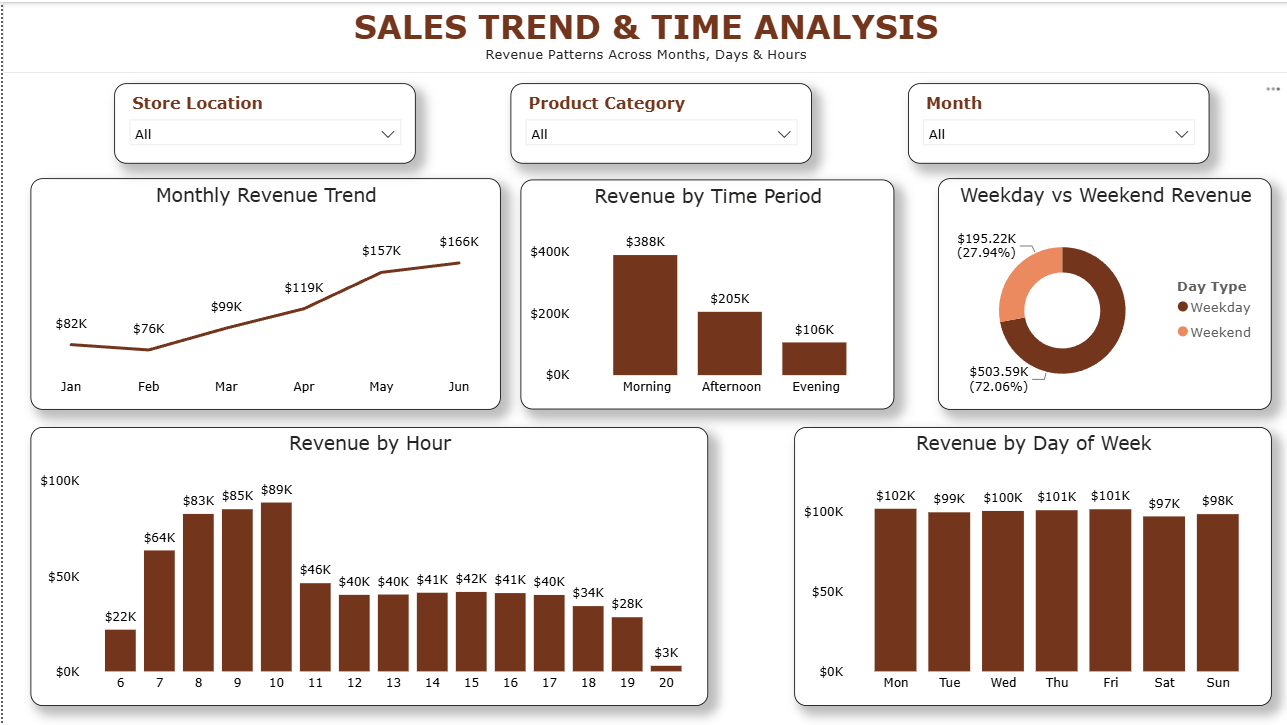

This screenshot's page, from the dashboard's own definition file:
{"tool":"powerbi","page":{"name":"Time Analysis","canvas":[1280,720],"ordinal":3},"visuals":[{"type":"lineChart","title":"Monthly Revenue Trend","fields":{"Category":["DateTable.Month Short"],"Y":["Measures (3).Total Revenue"]},"box":[27.4,175.4,467.7,230.1],"z":0},{"type":"clusteredColumnChart","title":"Revenue by Hour","fields":{"Category":["Coffee_Shop_Sales.Transaction Hour"],"Y":["Measures (3).Total Revenue"]},"box":[27.4,422.9,674.2,277.4],"z":1000},{"type":"clusteredColumnChart","title":"Revenue by Day of Week","fields":{"Category":["DateTable.Day Name"],"Y":["Measures (3).Total Revenue"]},"box":[787.4,422.9,475.2,277.4],"z":2000},{"type":"donutChart","title":"Weekday vs Weekend Revenue","fields":{"Category":["DateTable.Day Type"],"Y":["Measures (3).Total Revenue"]},"box":[930.5,175.4,332.1,230.1],"z":3000},{"type":"clusteredColumnChart","title":"Revenue by Time Period","fields":{"Category":["Coffee_Shop_Sales.Time Period"],"Y":["Measures (3).Total Revenue"]},"box":[515,176.6,371.9,228.9],"z":4000},{"type":"textbox","box":[0,0,1280,70.9],"z":5000},{"type":"slicer","fields":{"Values":["Coffee_Shop_Sales.store_location"]},"box":[110.7,80.9,300,80],"z":6000},{"type":"slicer","fields":{"Values":["Coffee_Shop_Sales.product_category"]},"box":[505.7,80.9,300,80],"z":7000},{"type":"slicer","fields":{"Values":["DateTable.Month"]},"box":[900.6,80.9,300,80],"z":8000}]}

Visuals, with their boxes in screenshot pixels (x1, y1, x2, y2), scaled from the page's 1280x720 canvas onto the 1287x725 screenshot:
"Monthly Revenue Trend" lineChart: bbox(28, 177, 498, 408)
"Revenue by Hour" clusteredColumnChart: bbox(28, 426, 705, 705)
"Revenue by Day of Week" clusteredColumnChart: bbox(792, 426, 1270, 705)
"Weekday vs Weekend Revenue" donutChart: bbox(936, 177, 1270, 408)
"Revenue by Time Period" clusteredColumnChart: bbox(518, 178, 892, 408)
textbox: bbox(0, 0, 1286, 71)
slicer - Coffee_Shop_Sales.store_location: bbox(111, 81, 413, 162)
slicer - Coffee_Shop_Sales.product_category: bbox(508, 81, 810, 162)
slicer - DateTable.Month: bbox(906, 81, 1207, 162)
